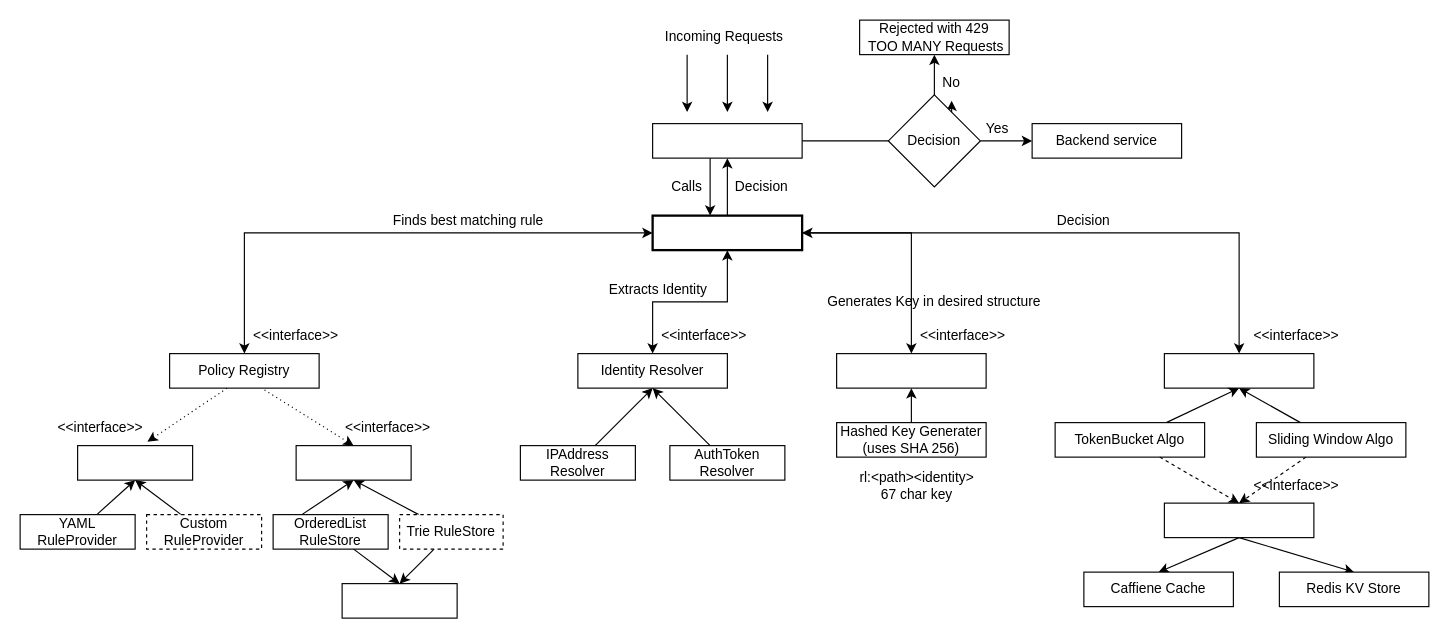
Some shapes in this 1449 by 638 pixel diagram are drawn without their labels. Here are the shapes that lost their labels. From the top down, the box of each, then its label:
(651, 122, 802, 158): Interceptor
(651, 214, 803, 251): RestAPI Orchestrator
(835, 352, 986, 388): Key Factory
(1163, 352, 1314, 388): RateLimit Algorithm
(76, 444, 193, 480): Rule Provider
(295, 444, 411, 480): RuleStore
(1163, 502, 1314, 538): Storage Provider
(341, 582, 457, 618): ANT PathRuleMatcher
